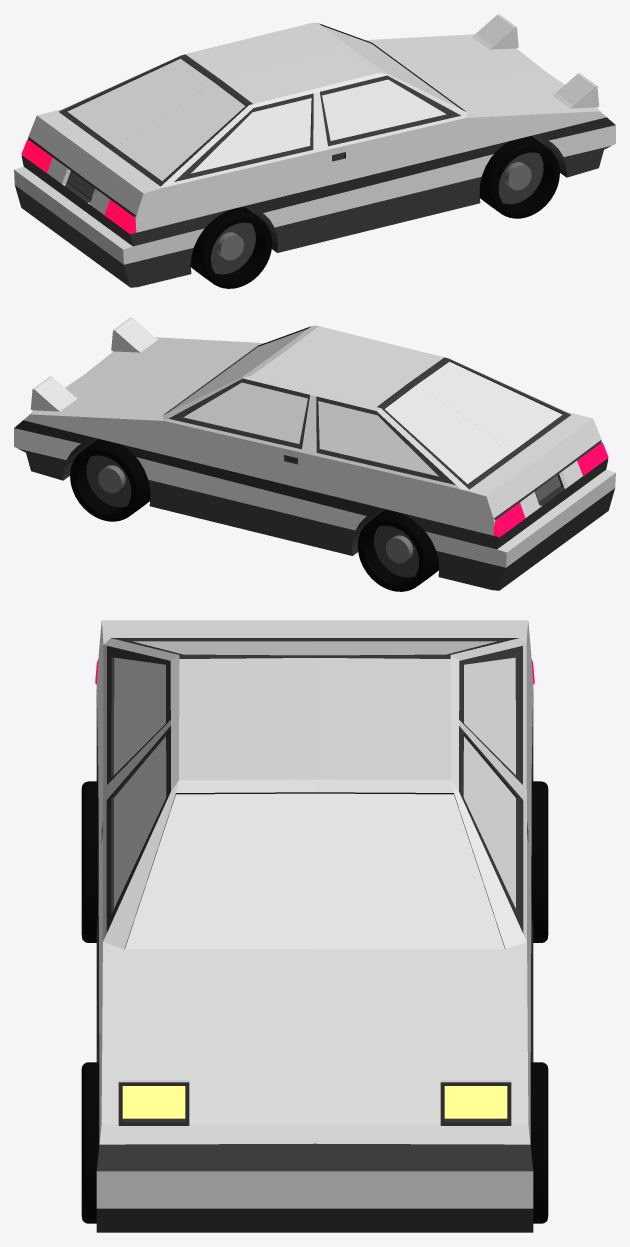
Rendered from auto.fbx.
The picture shows the model from 3 angles, top to bottom: view 1: azimuth 30°, elevation 25°; view 2: azimuth 150°, elevation 25°; view 3: azimuth 270°, elevation 25°; orthographic projection. The views are drawn at different scales.
Parts seen in each view (by area): view 1: Car, Rechts voor, Rechts achter; view 2: Car, Links voor, Links achter; view 3: Car, Rechts voor, Links voor, Rechts achter, Links achter.
Boxes of the visible parts, x1,y1,x2,y2 form: Car: (14,14,615,287); Rechts voor: (479,136,559,218); Rechts achter: (190,207,272,288); Car: (14,317,615,590); Links voor: (70,439,150,521); Links achter: (357,510,439,591); Car: (95,620,534,1232); Rechts voor: (81,1062,99,1223); Links voor: (530,1062,548,1223); Rechts achter: (81,781,98,942); Links achter: (531,781,548,942).
Bounding box in the file's own units: 2118 × 649 × 868.
